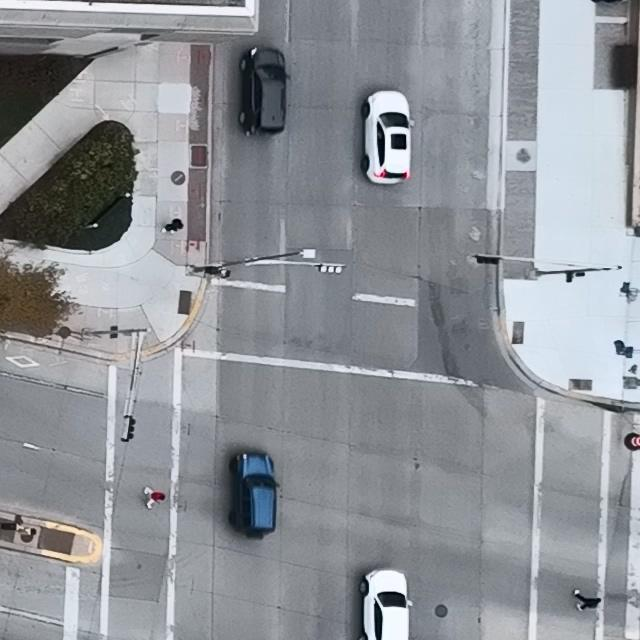car: (362, 90, 415, 186), (228, 452, 281, 539), (239, 48, 291, 136), (359, 568, 413, 640)
